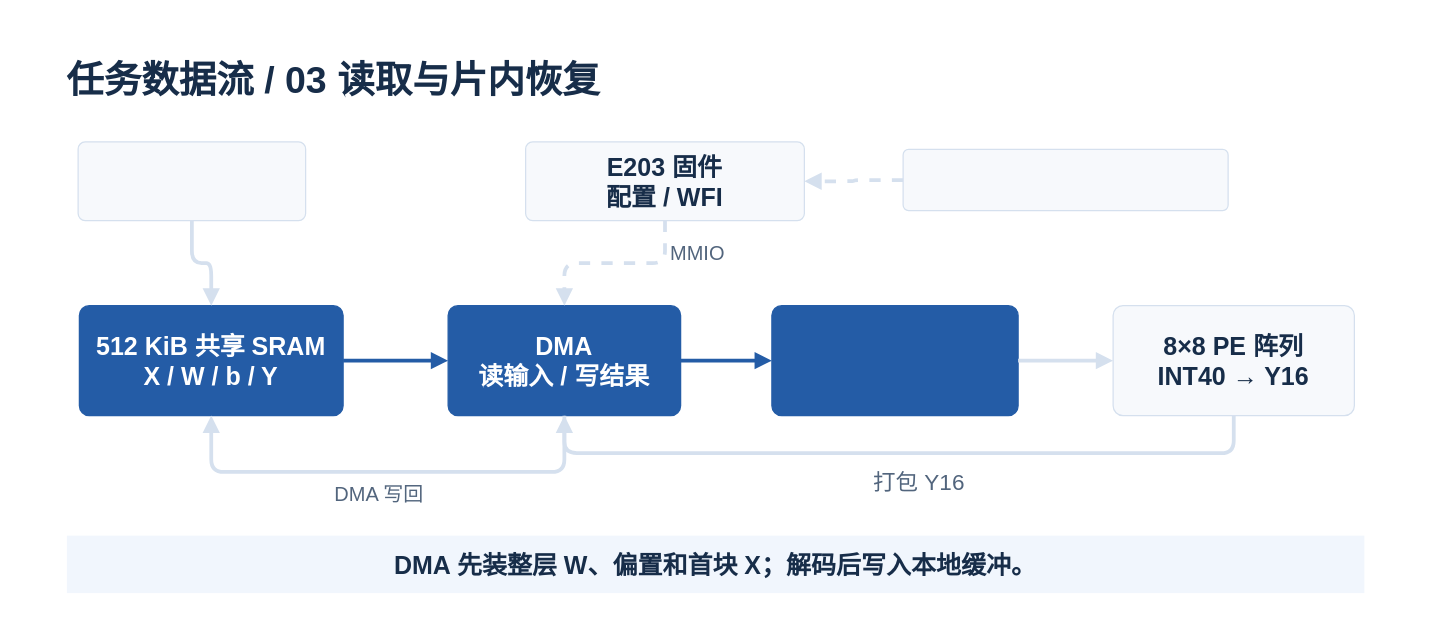
Some shapes in this 1430 by 636 pixel diagram are drawn without their labels. The centre of each missing label's shape, as x and y in pixels:
Host 装载任务: the point at 191,181
最终写响应 → IRQ: the point at 1065,179
片内解码与缓冲 W / b 驻留 · X A/B: the point at 894,360
